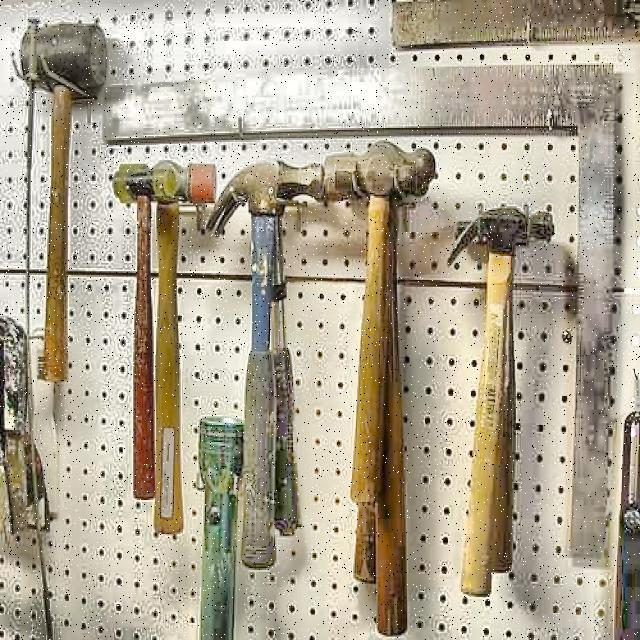hammer: (323, 141, 441, 637), (205, 148, 327, 566), (447, 202, 558, 596)
